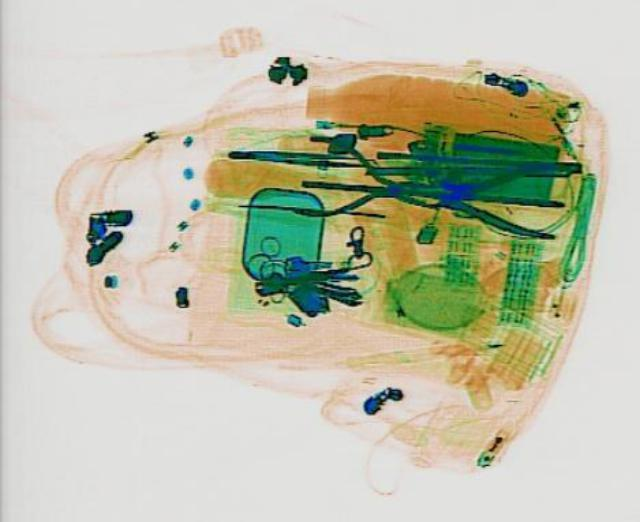Pliers: (288, 131, 437, 230), (424, 155, 566, 238)
